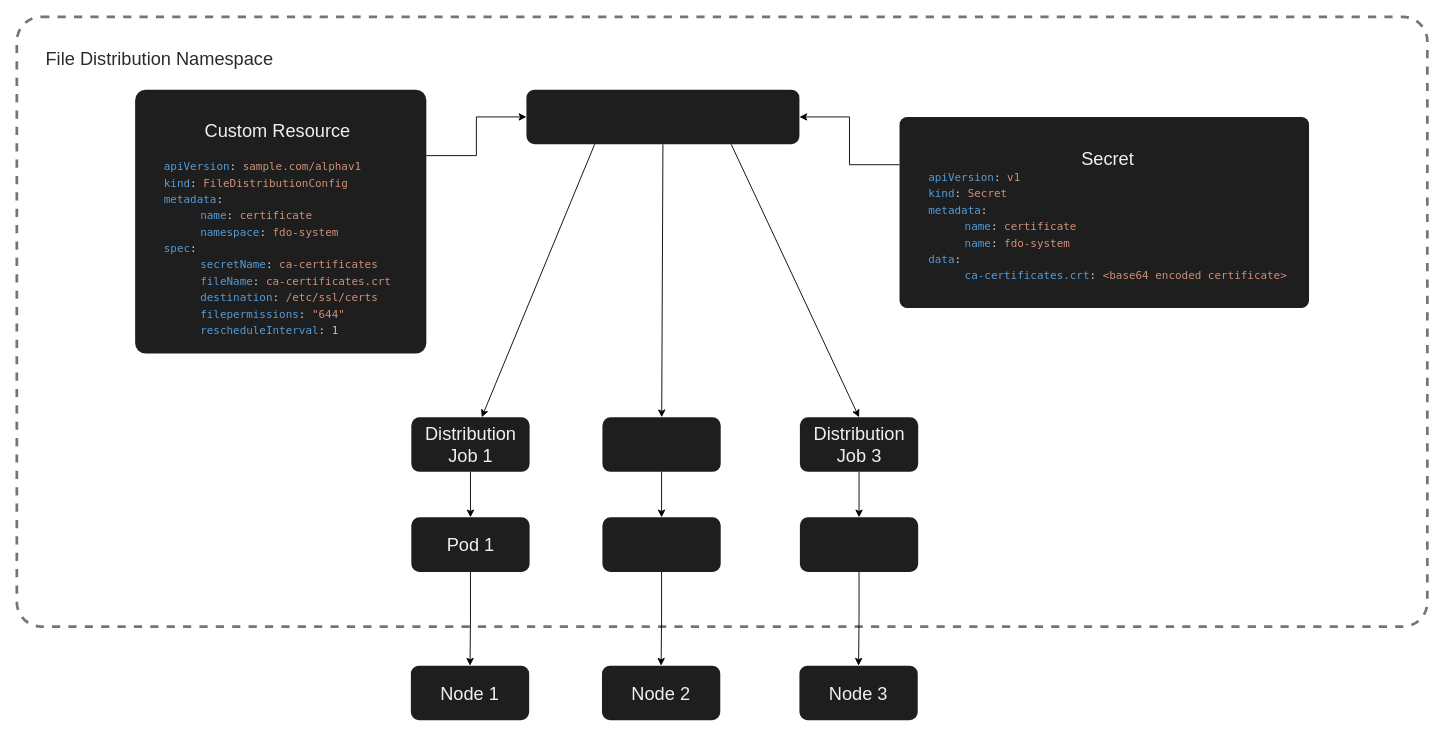
The diagram is 1444 pixels wide and 736 high, and some of its shapes have lost their labels. The shapes that lost their labels are listed below. From the top down, each one's centre as x and y in pixels, then its label:
the point at 662,116: File Distribution Operator
the point at 661,444: Distribution Job 2
the point at 661,544: Pod 2
the point at 858,544: Pod 3
